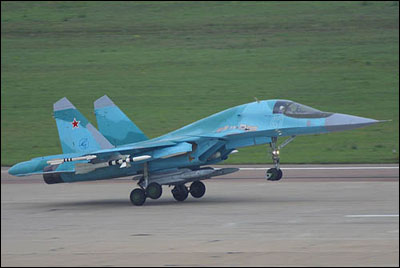airplane: (5, 91, 391, 206)
